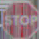Stop: (1, 5, 38, 37)
